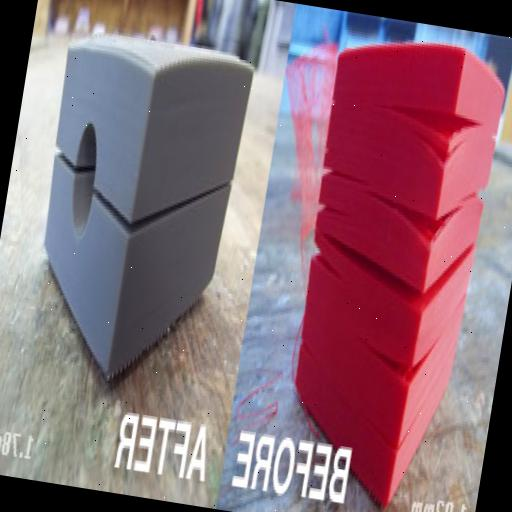cracks: (272, 59, 512, 429), (16, 80, 254, 354)
